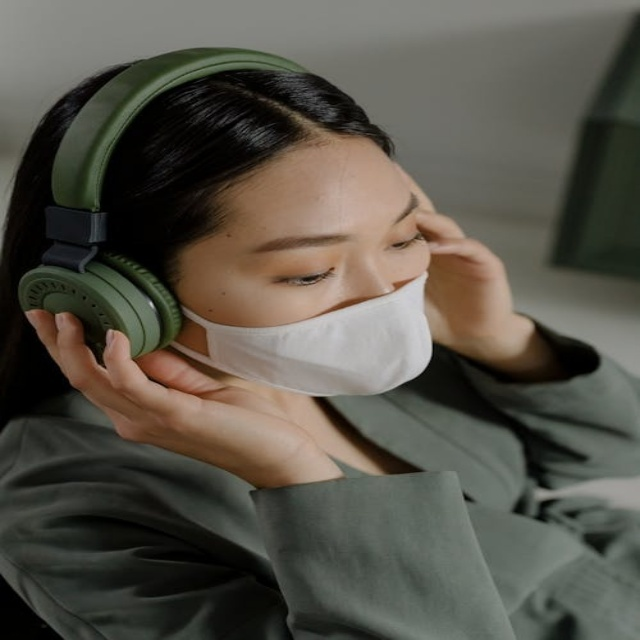Mascara: (165, 270, 438, 397)
Sin_gafas: (241, 197, 424, 289)
Sin_guantes: (31, 305, 333, 488), (388, 154, 530, 359)
